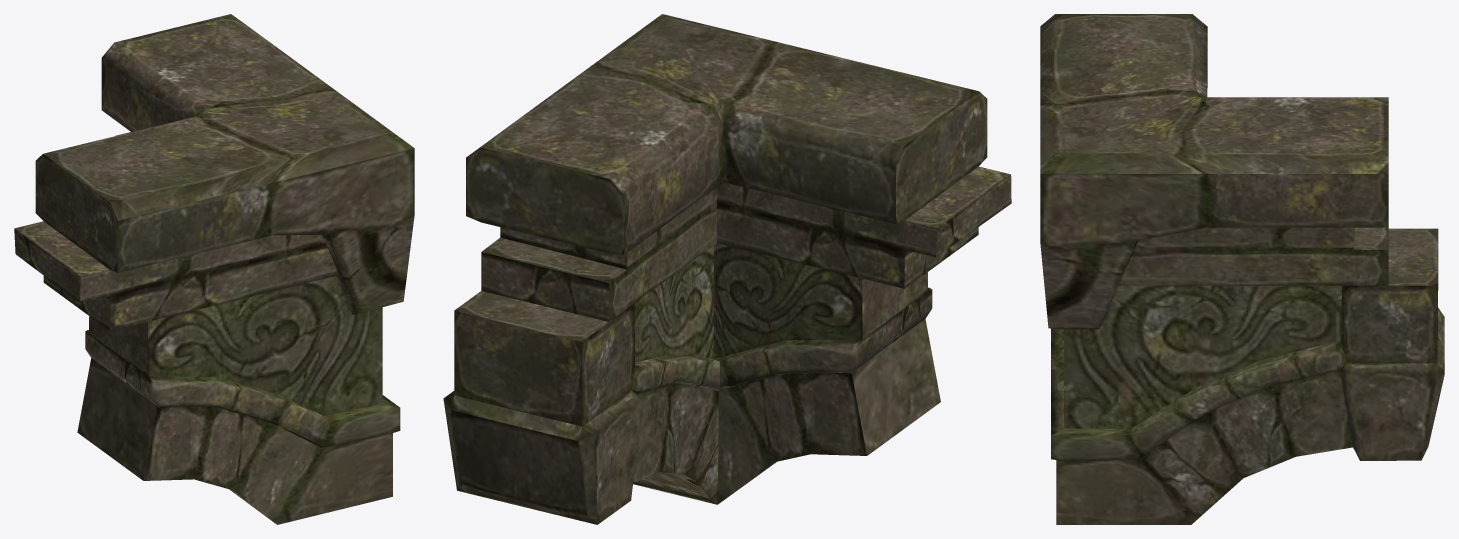
Rendered from Arch_Alley_07-transformed.glb.
The picture shows the model from 3 angles, left to right: view 1: azimuth 30°, elevation 25°; view 2: azimuth 150°, elevation 25°; view 3: azimuth 270°, elevation 25°; orthographic projection. The views are drawn at different scales.
Parts seen in each view (by area): view 1: default; view 2: default; view 3: default.
Boxes of the visible parts, x1,y1,x2,y2 form: default: [14, 14, 414, 524]; default: [443, 14, 1011, 524]; default: [1040, 14, 1444, 524].
Size of the model in its own units: 2.17 by 2.31 by 2.29.
1 material, 1 textured.
